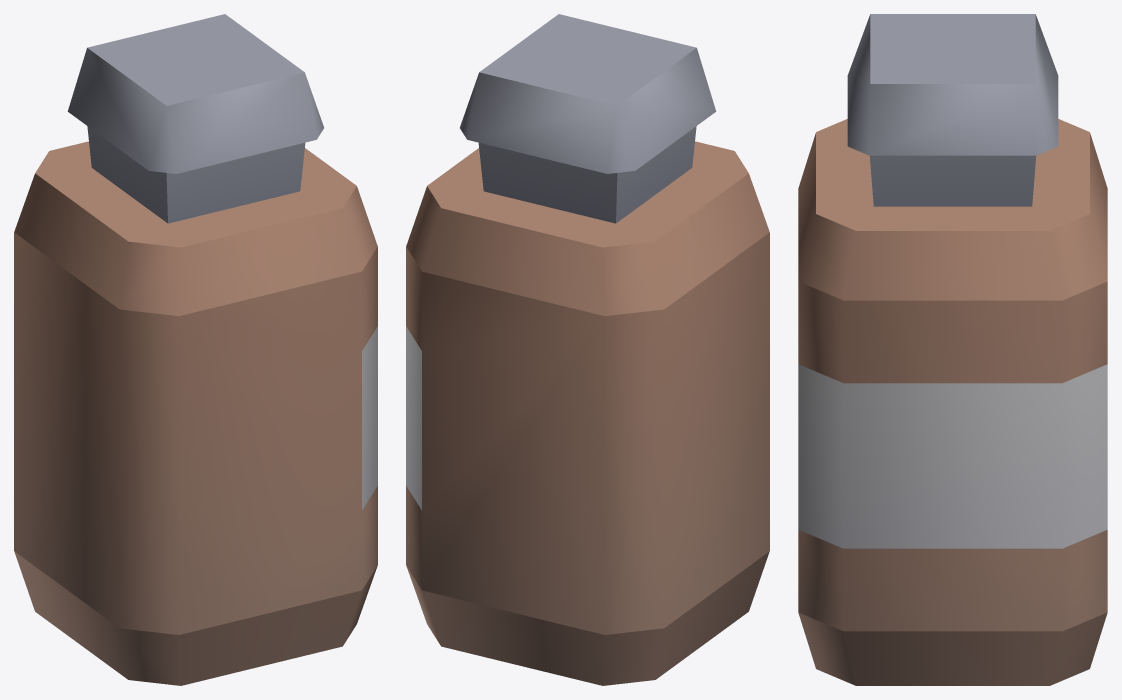
The model's file is shaker-salt.glb.
3 views of the same model, side by side, from view 1: azimuth 30°, elevation 25°; view 2: azimuth 150°, elevation 25°; view 3: azimuth 270°, elevation 25° (orthographic). The views are drawn at different scales.
Parts seen in each view (by area): view 1: shaker-salt; view 2: shaker-salt; view 3: shaker-salt.
Part boxes in pixels (x1,y1,x2,y2): shaker-salt: [14, 14, 377, 685]; shaker-salt: [406, 14, 769, 685]; shaker-salt: [798, 14, 1107, 685].
Size of the model in its own units: 0.0949 by 0.196 by 0.0949.
